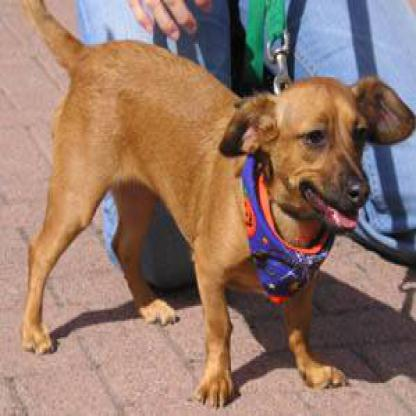dog: (26, 42, 399, 366)
